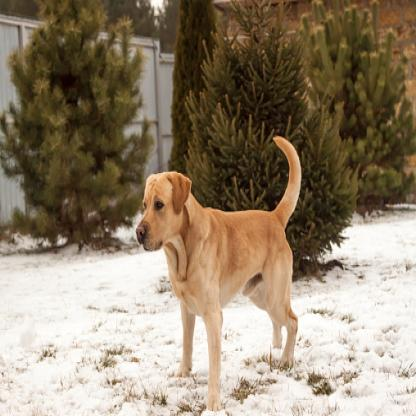dog: (135, 165, 299, 403)
